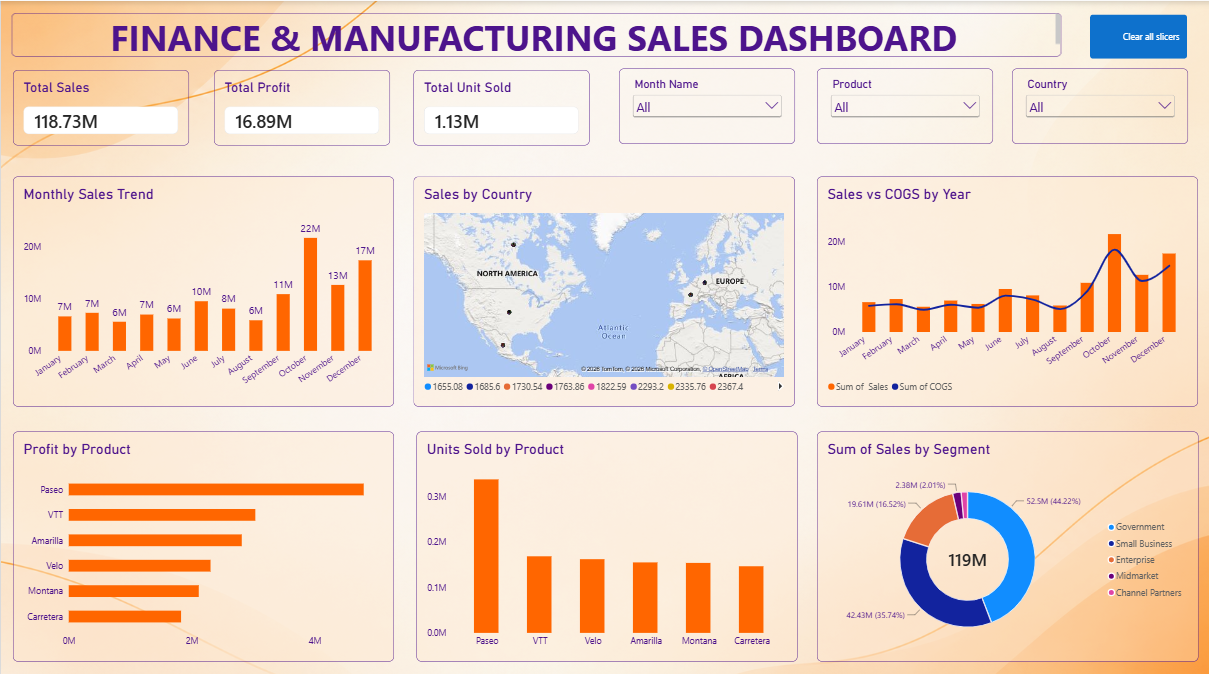

This screenshot's page, from the dashboard's own definition file:
{"tool":"powerbi","page":{"name":"Page 1","canvas":[1920,1080],"ordinal":0},"visuals":[{"type":"cardVisual","title":"Total Sales","fields":{"Data":["Sum(Sheet1. Sales)"]},"box":[18.2,109,280,120],"z":0},{"type":"cardVisual","title":"Total Profit","fields":{"Data":["Sum(Sheet1.Profit)"]},"box":[338.4,109,280,120],"z":1000},{"type":"cardVisual","title":"Total Unit Sold","fields":{"Data":["Sum(Sheet1.Units Sold)"]},"box":[656.4,109,280,120],"z":2000},{"type":"clusteredColumnChart","title":"Monthly Sales Trend","fields":{"Y":["Sum(Sheet1. Sales)"],"Category":["Sheet1.Month Name"]},"box":[18.2,279.4,606,365.7],"z":3000},{"type":"clusteredBarChart","title":"Profit by Product","fields":{"Category":["Sheet1.Product"],"Y":["Sum(Sheet1.Profit)"]},"box":[18.2,683.7,606,365.7],"z":4000},{"type":"map","title":"Sales by Country","fields":{"Category":["Sheet1.Country"],"Series":["Sheet1. Sales"]},"box":[656.4,279.4,606.4,365.7],"z":5000},{"type":"clusteredColumnChart","title":"Units Sold by Product","fields":{"Category":["Sheet1.Product"],"Y":["Sum(Sheet1.Units Sold)"]},"box":[661,683.7,606,365.7],"z":6000},{"type":"lineClusteredColumnComboChart","title":"Sales vs COGS by Year","fields":{"Y":["Sum(Sheet1. Sales)"],"Y2":["Sum(Sheet1.COGS)"],"Category":["Sheet1.Month Name"]},"box":[1296.9,279.4,606,365.7],"z":7000},{"type":"donutChart","fields":{"Category":["Sheet1.Segment"],"Y":["Sum(Sheet1. Sales)"]},"box":[1296.9,683.7,606.4,365.7],"z":8000},{"type":"textbox","box":[17.3,20.2,1669.7,69.3],"z":9000},{"type":"slicer","fields":{"Values":["Sheet1.Month Name"]},"box":[983.5,106.8,280,120],"z":10000},{"type":"slicer","fields":{"Values":["Sheet1.Product"]},"box":[1296.9,106.8,280,120],"z":11000},{"type":"slicer","fields":{"Values":["Sheet1.Country"]},"box":[1608.1,106.8,280,120],"z":12000},{"type":"actionButton","box":[1733,20.4,154.4,70.4],"z":13000}]}

Visuals, with their boxes in screenshot pixels (x1, y1, x2, y2), scaled from the page's 1920x1080 canvas onto the 1209x674 screenshot:
"Total Sales" cardVisual: 11,68,188,143
"Total Profit" cardVisual: 213,68,389,143
"Total Unit Sold" cardVisual: 413,68,590,143
"Monthly Sales Trend" clusteredColumnChart: 11,174,393,403
"Profit by Product" clusteredBarChart: 11,427,393,655
"Sales by Country" map: 413,174,795,403
"Units Sold by Product" clusteredColumnChart: 416,427,798,655
"Sales vs COGS by Year" lineClusteredColumnComboChart: 817,174,1198,403
donutChart - Sheet1.Segment x Sum(Sheet1. Sales): 817,427,1198,655
textbox: 11,13,1062,56
slicer - Sheet1.Month Name: 619,67,796,142
slicer - Sheet1.Product: 817,67,993,142
slicer - Sheet1.Country: 1013,67,1189,142
actionButton: 1091,13,1188,57
